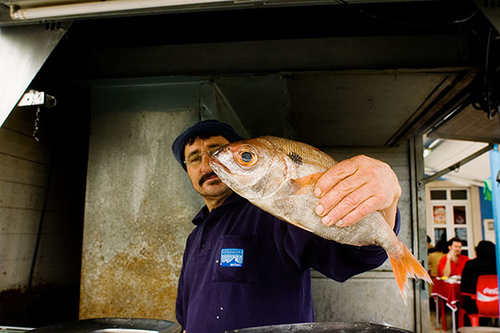fish: (211, 135, 430, 288)
